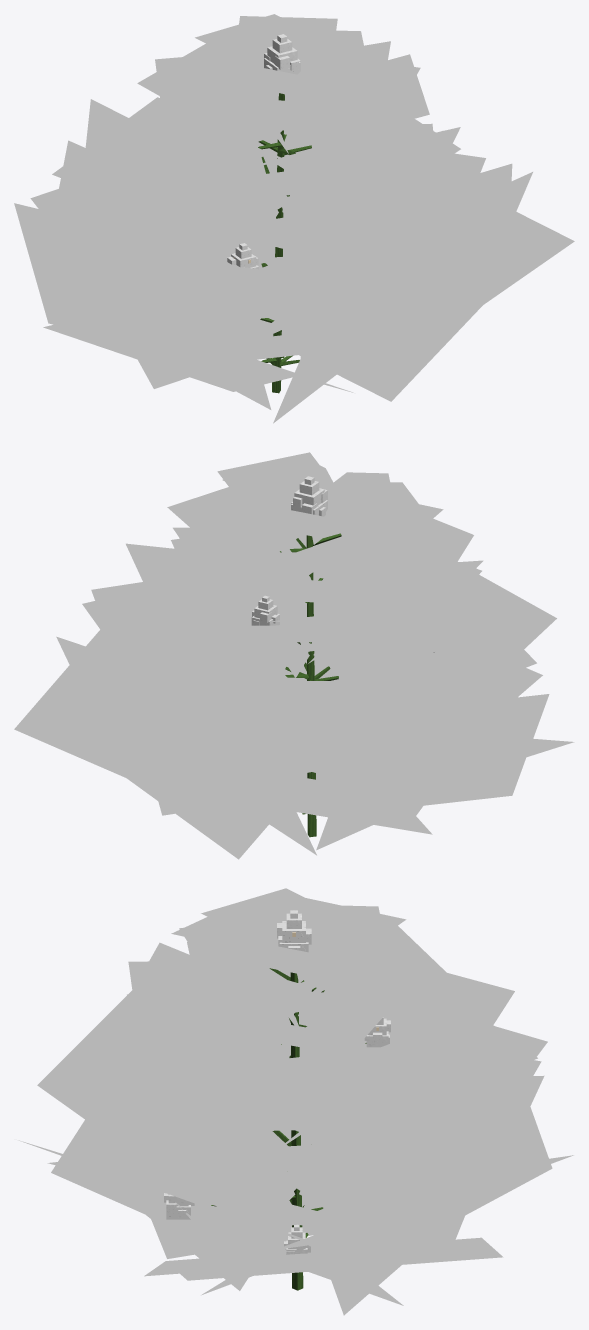
Rendered from plant_2_0_0.obj.
3 renders of one model, top to bottom at view 1: azimuth 30°, elevation 25°; view 2: azimuth 150°, elevation 25°; view 3: azimuth 270°, elevation 25°, orthographic. The views are drawn at different scales.
Visible parts, largest first — view 1: model; view 2: model; view 3: model.
Part boxes in pixels (box(x1,y1,x2,y2)): model: box(14, 14, 574, 423); model: box(14, 452, 574, 859); model: box(18, 888, 573, 1315).
Size of the model in its own units: 1.08 by 0.745 by 1.
